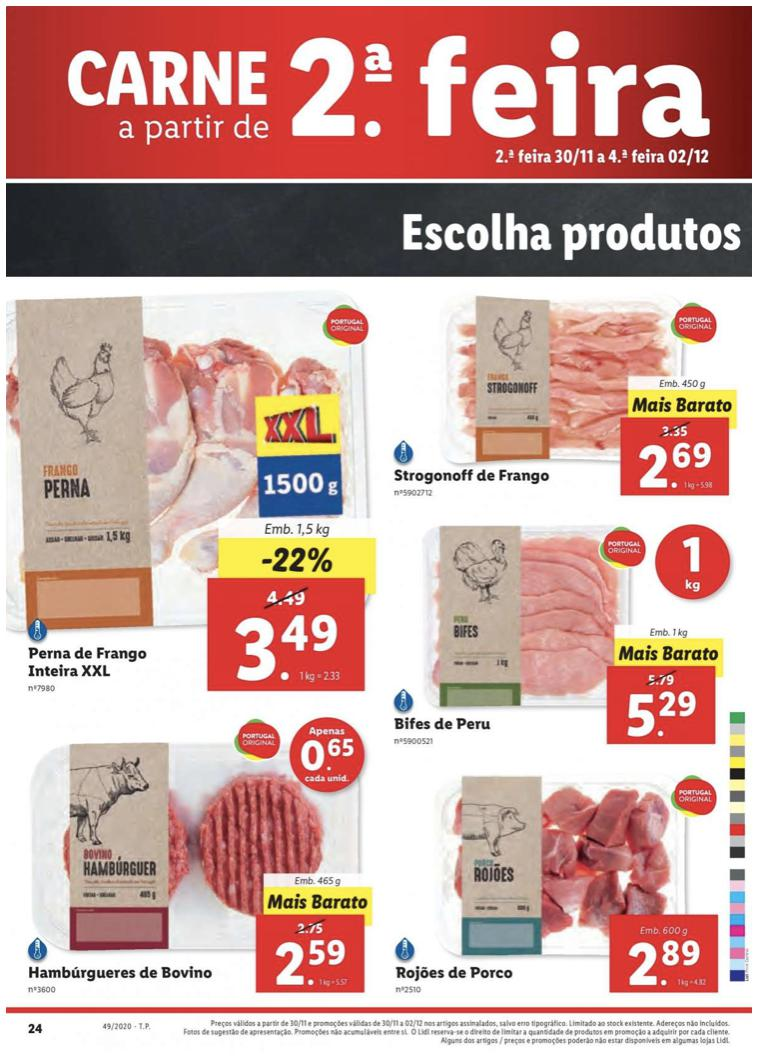name: (26, 643, 148, 680), (392, 463, 551, 486), (26, 963, 217, 982), (395, 961, 522, 984), (394, 711, 494, 731)
price: (231, 613, 343, 686), (276, 935, 349, 988), (626, 938, 701, 988), (636, 442, 713, 490), (624, 690, 699, 739)
product: (7, 276, 398, 717), (7, 717, 382, 994), (382, 748, 727, 994), (384, 505, 727, 748), (384, 296, 745, 504)
promotion: (256, 542, 334, 580)
